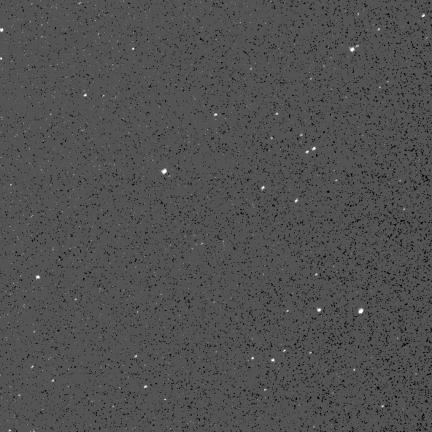blob: (161, 169, 167, 175), (359, 308, 364, 313), (84, 94, 88, 98), (312, 147, 316, 151), (36, 276, 40, 279), (0, 28, 3, 32), (214, 113, 217, 116), (133, 48, 135, 51)
